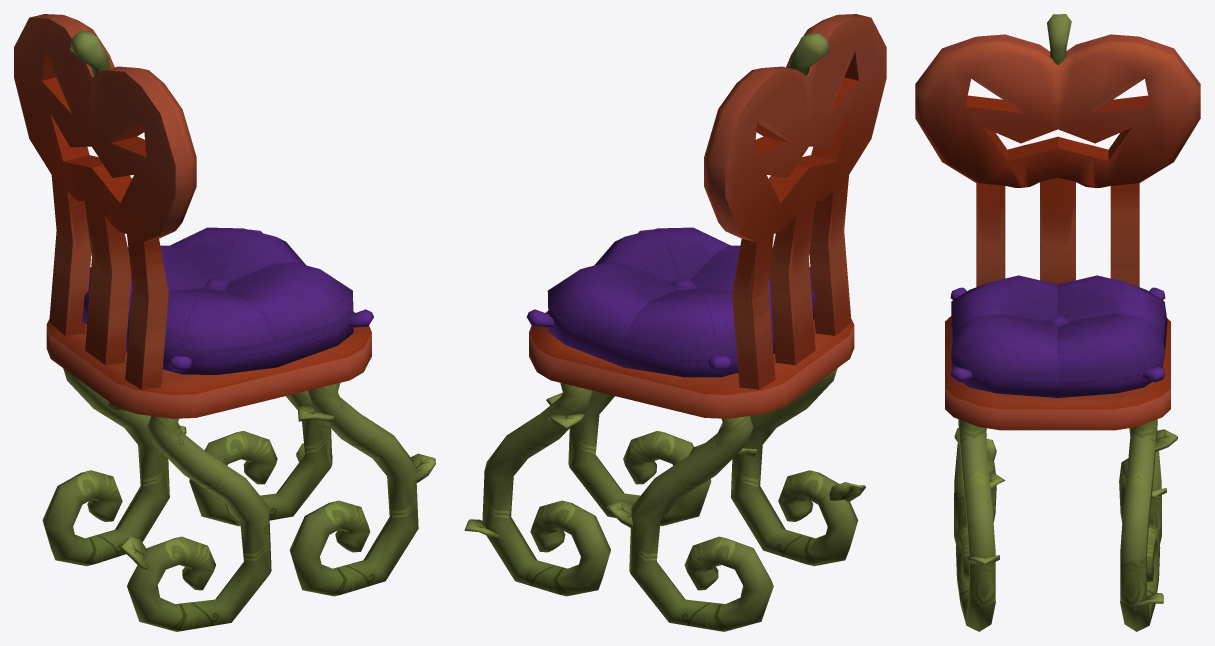
Rendered from pumpkin_chair.fbx.
The picture shows the model from 3 angles, left to right: view 1: azimuth 30°, elevation 25°; view 2: azimuth 150°, elevation 25°; view 3: azimuth 270°, elevation 25°; orthographic projection. The views are drawn at different scales.
Visible parts, largest first — view 1: chair; view 2: chair; view 3: chair.
Part boxes in pixels (bbox=[...]): chair: bbox=[14, 14, 435, 631]; chair: bbox=[464, 14, 886, 631]; chair: bbox=[915, 14, 1200, 631].
Bounding box in the file's own units: 321 × 550 × 279.
